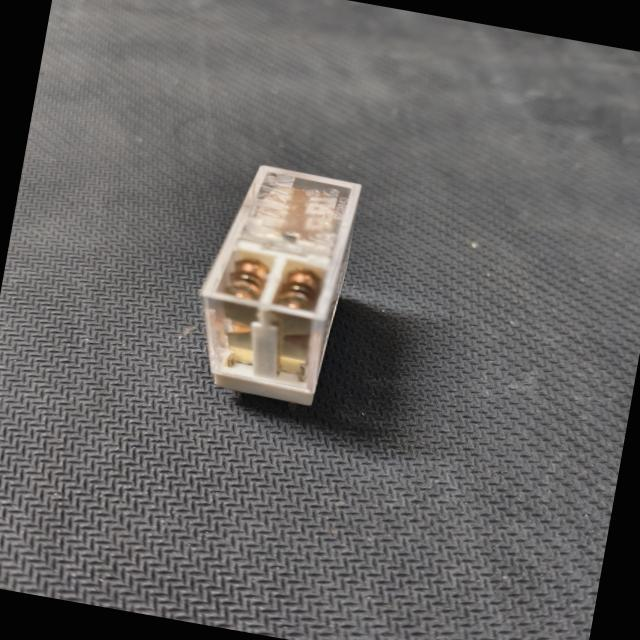relay: (147, 141, 415, 435)
